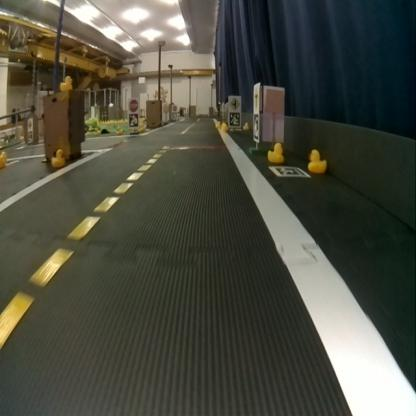Duckie: (307, 148, 325, 171), (268, 144, 284, 160), (50, 150, 64, 166), (59, 74, 72, 90), (0, 149, 7, 167), (94, 126, 100, 134), (116, 126, 121, 134), (243, 122, 248, 129), (222, 123, 226, 130)
Intersection sign: (253, 85, 259, 109), (228, 97, 239, 110)
QR code: (271, 162, 306, 176), (252, 113, 258, 138), (228, 112, 238, 126), (128, 115, 138, 127)
Stop sign: (127, 99, 138, 111)
